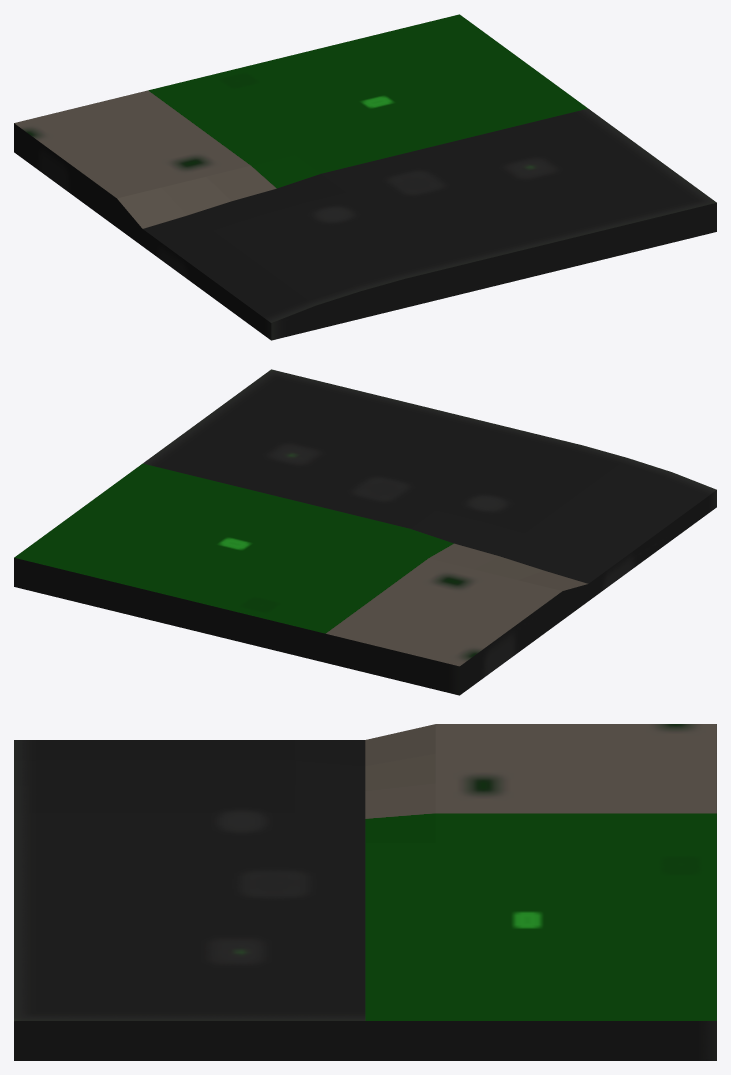
Rendered from driveway_8x8_00.glb.
3 views of the same model, one above another, from view 1: azimuth 30°, elevation 25°; view 2: azimuth 150°, elevation 25°; view 3: azimuth 270°, elevation 25° (orthographic). The views are drawn at different scales.
Visible parts, largest first — view 1: driveway_8x8_00; view 2: driveway_8x8_00; view 3: driveway_8x8_00.
Boxes of the visible parts, x1,y1,x2,y2 form: driveway_8x8_00: [14, 14, 716, 340]; driveway_8x8_00: [14, 369, 716, 695]; driveway_8x8_00: [14, 724, 716, 1060].
Size of what is drawn, in the model's own units: 8 by 0.5 by 8.
Materials: 1 (1 with a texture image).
